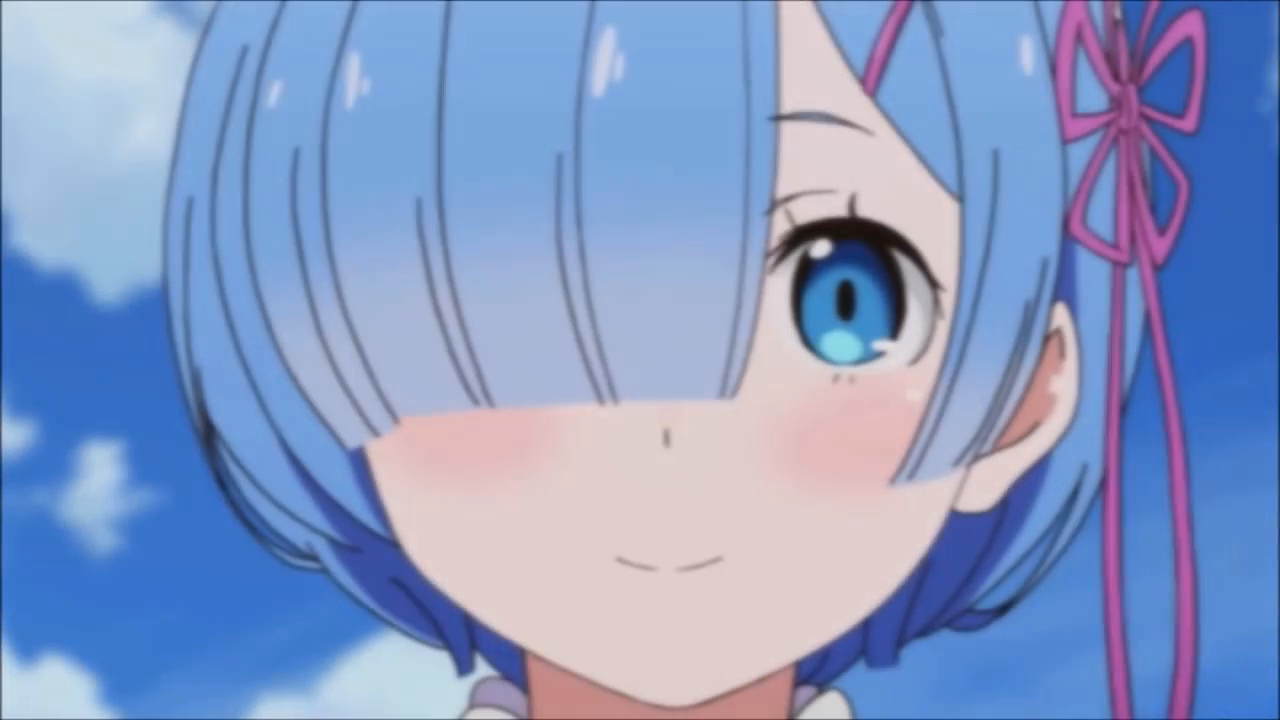REM: (152, 1, 1171, 711)
